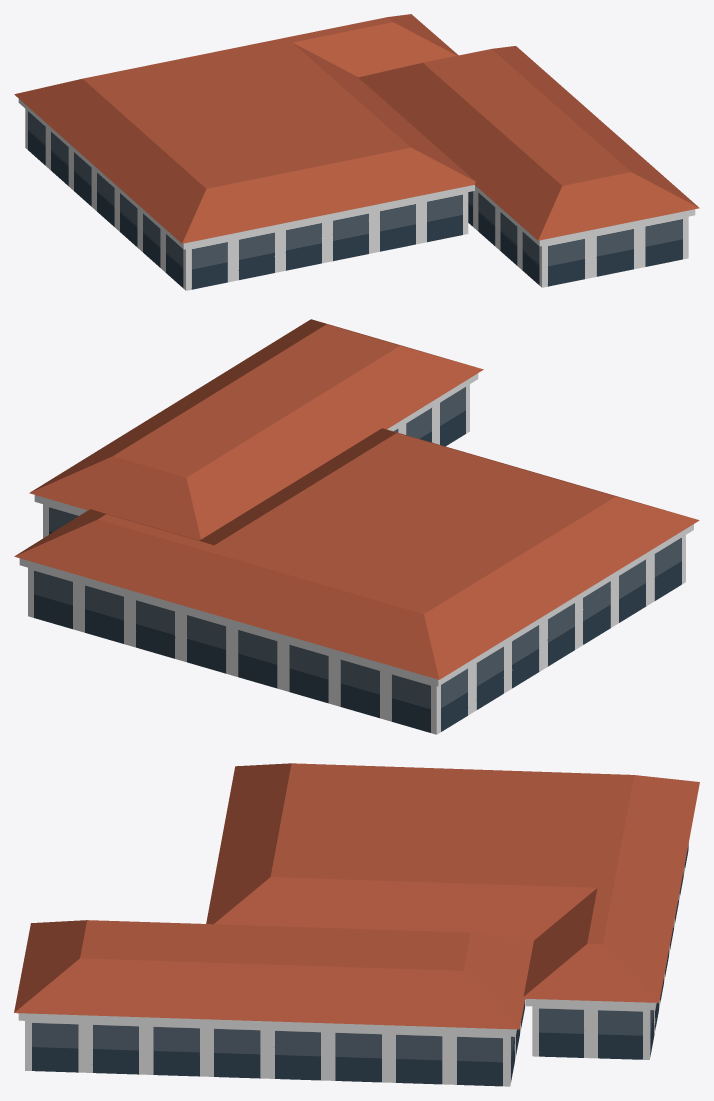
Rendered from montanaeco.glb.
3 renders of one model, top to bottom at view 1: azimuth 30°, elevation 25°; view 2: azimuth 150°, elevation 25°; view 3: azimuth 270°, elevation 25°, orthographic. The views are drawn at different scales.
Visible parts, largest first — view 1: montanaeco_lod0; view 2: montanaeco_lod0; view 3: montanaeco_lod0.
Part boxes in pixels (x1,y1,x2,y2): montanaeco_lod0: (14,14,699,290); montanaeco_lod0: (14,319,699,734); montanaeco_lod0: (14,763,699,1086).
Size of what is drawn, in the model's own units: 36.59 by 6 by 40.29.
3 materials, 1 textured.
